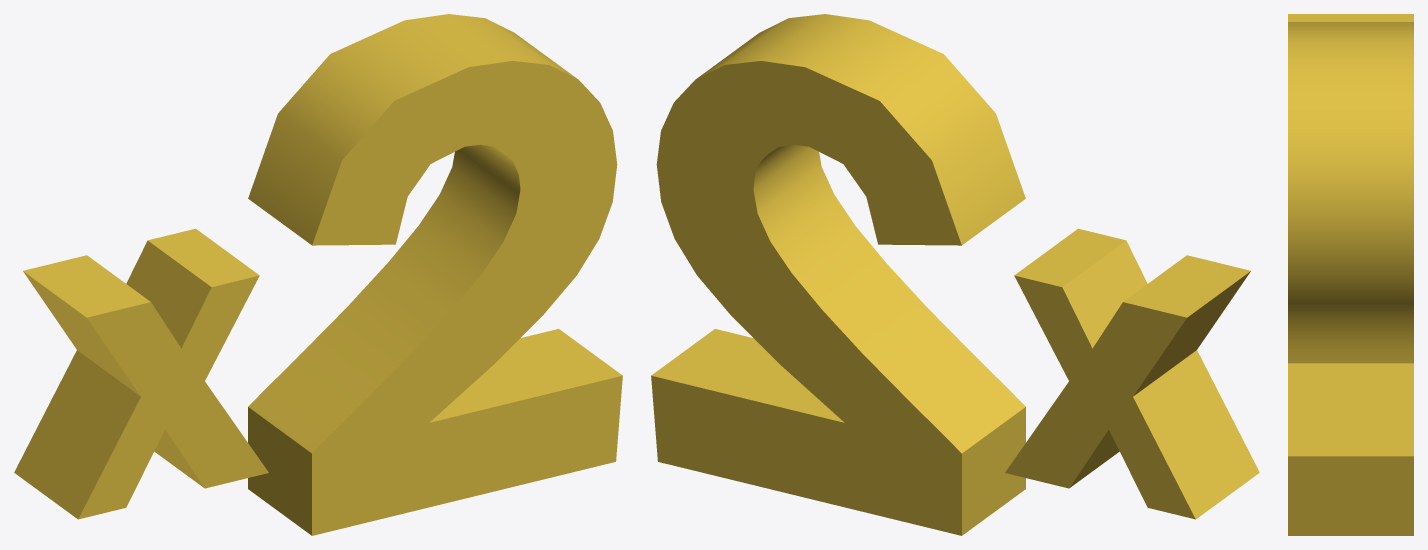
Rendered from GMP_coin_boost_01.fbx.
3 renders of one model, left to right at view 1: azimuth 30°, elevation 25°; view 2: azimuth 150°, elevation 25°; view 3: azimuth 270°, elevation 25°, orthographic.
Visible parts, largest first — view 1: Franklin Demi; view 2: Franklin Demi; view 3: Franklin Demi.
Part boxes in pixels (x1,y1,x2,y2): Franklin Demi: (14, 14, 622, 535); Franklin Demi: (651, 14, 1259, 535); Franklin Demi: (1288, 14, 1413, 535).
Bounding box in the file's own units: 71.33 × 53.87 × 14.52.
